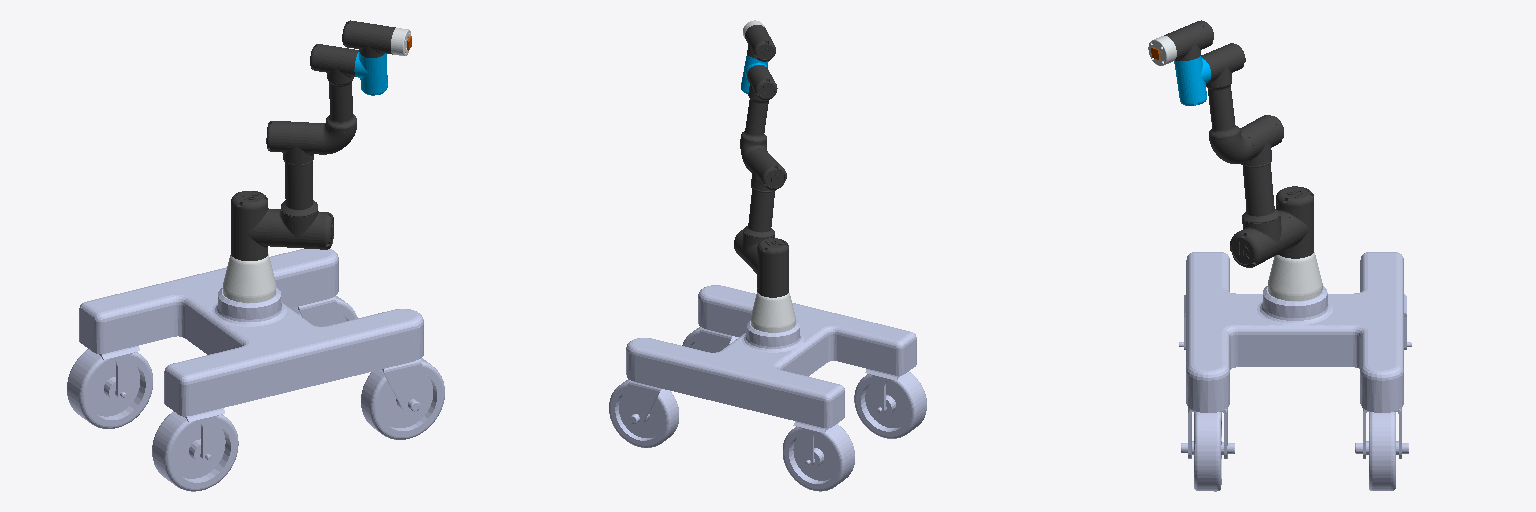
--- Render facts (derived) ---
The picture shows the robot from 3 angles, left to right: view 1: azimuth 30°, elevation 25°; view 2: azimuth 150°, elevation 25°; view 3: azimuth 270°, elevation 25°; orthographic projection.
Model mobile_manipulator with 22 links and 21 joints (8 revolute, 4 continuous, 9 fixed), rooted at dummy_link, posed all joints at 0.
Links seen in each view (by area): view 1: base_link, second_link, rear_right_wheel, rear_left_wheel, front_right_wheel, third_link, first_link, robot_base, fifth_link, front_right_castor, fourth_link, front_left_castor (+2 smaller); view 2: base_link, rear_right_wheel, rear_left_wheel, second_link, front_left_wheel, third_link, first_link, robot_base, front_left_castor, fifth_link, front_right_castor; view 3: base_link, second_link, third_link, front_right_wheel, robot_base, front_left_wheel, first_link, fourth_link, fifth_link, sixth_link.
Link boxes in pixels (x1=…): base_link: x1=79, y1=249, x2=423, y2=416; second_link: x1=266, y1=121, x2=333, y2=249; rear_right_wheel: x1=152, y1=411, x2=238, y2=491; rear_left_wheel: x1=67, y1=349, x2=152, y2=428; front_right_wheel: x1=361, y1=358, x2=444, y2=439; third_link: x1=310, y1=44, x2=358, y2=154; first_link: x1=231, y1=191, x2=274, y2=260; robot_base: x1=223, y1=254, x2=275, y2=302; fifth_link: x1=342, y1=20, x2=395, y2=57; front_right_castor: x1=382, y1=359, x2=421, y2=413; fourth_link: x1=354, y1=52, x2=387, y2=95; front_left_castor: x1=298, y1=297, x2=336, y2=326; base_link: x1=626, y1=285, x2=916, y2=427; rear_right_wheel: x1=854, y1=372, x2=926, y2=438; rear_left_wheel: x1=783, y1=424, x2=854, y2=491; second_link: x1=734, y1=148, x2=786, y2=267; front_left_wheel: x1=609, y1=379, x2=678, y2=447; third_link: x1=740, y1=65, x2=777, y2=167; first_link: x1=751, y1=238, x2=788, y2=297; robot_base: x1=751, y1=292, x2=795, y2=332; front_left_castor: x1=628, y1=380, x2=660, y2=425; fifth_link: x1=745, y1=25, x2=775, y2=61; front_right_castor: x1=700, y1=327, x2=731, y2=352; base_link: x1=1186, y1=252, x2=1403, y2=412; second_link: x1=1230, y1=115, x2=1294, y2=267; third_link: x1=1201, y1=43, x2=1251, y2=163; front_right_wheel: x1=1194, y1=412, x2=1221, y2=491; robot_base: x1=1268, y1=252, x2=1322, y2=300; front_left_wheel: x1=1369, y1=412, x2=1395, y2=490; first_link: x1=1276, y1=186, x2=1313, y2=258; fourth_link: x1=1174, y1=56, x2=1210, y2=105; fifth_link: x1=1164, y1=20, x2=1213, y2=60; sixth_link: x1=1148, y1=36, x2=1176, y2=65.
Bounding box of the posed robot: 0.7751 × 0.6146 × 1.13 m (x, y, z).
Meshes: 20 distinct files referenced, 20 mesh visuals loaded (20 binary STL).

The robot description file, URDF, robot "mobile_manipulator":
<?xml version="1.0" encoding="utf-8"?>
<!-- This URDF was automatically created by SolidWorks to URDF Exporter! Originally created by Stephen Brawner ([email redacted]) 
     Commit Version: 1.6.0-4-g7f85cfe  Build Version: 1.6.7995.38578
     For more information, please see http://wiki.ros.org/sw_urdf_exporter -->
<robot
  name="mobile_manipulator">
  <link
    name="base_link">
    <inertial>
      <origin
        xyz="-0.00319607622682661 0.180002969939367 0.297872363035518"
        rpy="0 0 0" />
      <mass
        value="50" />
      <inertia
        ixx="0.63891812039133"
        ixy="-1.25781907247513E-10"
        ixz="-0.000733527900815365"
        iyy="0.542408141562868"
        iyz="1.60391311307086E-11"
        izz="1.13742072534415" />
    </inertial>
    <visual>
      <origin
        xyz="0 0 0"
        rpy="0 0 0" />
      <geometry>
        <mesh
          filename="package://mobile_manipulator/meshes/base_link.STL" />
      </geometry>
      <material
        name="">
        <color
          rgba="0.792156862745098 0.819607843137255 0.933333333333333 1" />
      </material>
    </visual>
    <collision>
      <origin
        xyz="0 0 0"
        rpy="0 0 0" />
      <geometry>
        <mesh
          filename="package://mobile_manipulator/meshes/base_link.STL" />
      </geometry>
    </collision>
  </link>
  <link
    name="front_left_castor">
    <inertial>
      <origin
        xyz="0.00484984769708152 -1.11022302462516E-16 -0.0114069352482241"
        rpy="0 0 0" />
      <mass
        value="0.302449722252446" />
      <inertia
        ixx="0.000917502015816998"
        ixy="1.23731686324888E-19"
        ixz="9.60870987156195E-05"
        iyy="0.000789860838300225"
        iyz="-1.8267762154975E-19"
        izz="0.000455967835223646" />
    </inertial>
    <visual>
      <origin
        xyz="0 0 0"
        rpy="0 0 0" />
      <geometry>
        <mesh
          filename="package://mobile_manipulator/meshes/front_left_castor.STL" />
      </geometry>
      <material
        name="">
        <color
          rgba="0.792156862745098 0.819607843137255 0.933333333333333 1" />
      </material>
    </visual>
    <collision>
      <origin
        xyz="0 0 0"
        rpy="0 0 0" />
      <geometry>
        <mesh
          filename="package://mobile_manipulator/meshes/front_left_castor.STL" />
      </geometry>
    </collision>
  </link>
  <joint
    name="front_left_castor_joint"
    type="revolute">
    <origin
      xyz="0.272814741306656 0.383202969953993 0.23622"
      rpy="0 0 0" />
    <parent
      link="base_link" />
    <child
      link="front_left_castor" />
    <axis
      xyz="0 0 1" />
    <limit
      lower="-3.14"
      upper="3.14"
      effort="10"
      velocity="1000" />
    <dynamics friction="1"/>
  </joint>
  <link
    name="front_left_shaft">
    <inertial>
      <origin
        xyz="0 0 -0.0635"
        rpy="0 0 0" />
      <mass
        value="0.0858595098594949" />
      <inertia
        ixx="0.0001009908613904"
        ixy="2.99244959851748E-38"
        ixz="1.26927539495442E-38"
        iyy="0.0001009908613904"
        iyz="-3.2318755504395E-21"
        izz="9.64668125467686E-06" />
    </inertial>
    <visual>
      <origin
        xyz="0 0 0"
        rpy="0 0 0" />
      <geometry>
        <mesh
          filename="package://mobile_manipulator/meshes/front_left_shaft.STL" />
      </geometry>
      <material
        name="">
        <color
          rgba="0.792156862745098 0.819607843137255 0.933333333333333 1" />
      </material>
    </visual>
    <collision>
      <origin
        xyz="0 0 0"
        rpy="0 0 0" />
      <geometry>
        <mesh
          filename="package://mobile_manipulator/meshes/front_left_shaft.STL" />
      </geometry>
    </collision>
  </link>
  <joint
    name="front_left_shaft_joint"
    type="continuous">
    <origin
      xyz="0.0254000000000001 0.0635 -0.106172"
      rpy="-1.5707963267949 0 0" />
    <parent
      link="front_left_castor" />
    <child
      link="front_left_shaft" />
    <axis
      xyz="0 0 1" />
    <dynamics friction="1"/>
  </joint>
  <link
    name="front_left_wheel">
    <inertial>
      <origin
        xyz="-1.01451296707911E-05 -0.000756356582647499 -0.0635"
        rpy="0 0 0" />
      <mass
        value="1.36355537231825" />
      <inertia
        ixx="0.00450516535678402"
        ixy="3.72058102490162E-10"
        ixz="1.00066272375788E-19"
        iyy="0.0045051930900881"
        iyz="-5.57689498722482E-20"
        izz="0.00835610176466815" />
    </inertial>
    <visual>
      <origin
        xyz="0 0 0"
        rpy="0 0 0" />
      <geometry>
        <mesh
          filename="package://mobile_manipulator/meshes/front_left_wheel.STL" />
      </geometry>
      <material
        name="">
        <color
          rgba="0.792156862745098 0.819607843137255 0.933333333333333 1" />
      </material>
    </visual>
    <collision>
      <origin
        xyz="0 0 0"
        rpy="0 0 0" />
      <geometry>
        <mesh
          filename="package://mobile_manipulator/meshes/front_left_wheel.STL" />
      </geometry>
    </collision>
  </link>
  <joint
    name="front_left_wheel_joint"
    type="fixed">
    <origin
      xyz="0 0 0"
      rpy="0 0 0" />
    <parent
      link="front_left_shaft" />
    <child
      link="front_left_wheel" />
    <axis
      xyz="0 0 0" />
  </joint>
  <link
    name="front_right_castor">
    <inertial>
      <origin
        xyz="0.00484900708384495 -9.02938852160862E-05 -0.0114069352482241"
        rpy="0 0 0" />
      <mass
        value="0.302449722252446" />
      <inertia
        ixx="0.000917457772132958"
        ixy="-2.37599630155122E-06"
        ixz="9.6070444154058E-05"
        iyy="0.000789905081984266"
        iyz="-1.78893812838525E-06"
        izz="0.000455967835223646" />
    </inertial>
    <visual>
      <origin
        xyz="0 0 0"
        rpy="0 0 0" />
      <geometry>
        <mesh
          filename="package://mobile_manipulator/meshes/front_right_castor.STL" />
      </geometry>
      <material
        name="">
        <color
          rgba="0.792156862745098 0.819607843137255 0.933333333333333 1" />
      </material>
    </visual>
    <collision>
      <origin
        xyz="0 0 0"
        rpy="0 0 0" />
      <geometry>
        <mesh
          filename="package://mobile_manipulator/meshes/front_right_castor.STL" />
      </geometry>
    </collision>
  </link>
  <joint
    name="front_right_castor_joint"
    type="revolute">
    <origin
      xyz="0.272814741306656 -0.0231970300460073 0.23622"
      rpy="0 0 0" />
    <parent
      link="base_link" />
    <child
      link="front_right_castor" />
    <axis
      xyz="0 0 1" />
    <limit
      lower="-3.14"
      upper="3.14"
      effort="10"
      velocity="1000" />
    <dynamics friction="1"/>
  </joint>
  <link
    name="front_right_shaft">
    <inertial>
      <origin
        xyz="2.22044604925031E-16 0 0.0635000000000001"
        rpy="0 0 0" />
      <mass
        value="0.0858595098594949" />
      <inertia
        ixx="0.0001009908613904"
        ixy="2.7662421850965E-23"
        ixz="2.48815928255951E-21"
        iyy="0.0001009908613904"
        iyz="-3.94898122378412E-21"
        izz="9.64668125467686E-06" />
    </inertial>
    <visual>
      <origin
        xyz="0 0 0"
        rpy="0 0 0" />
      <geometry>
        <mesh
          filename="package://mobile_manipulator/meshes/front_right_shaft.STL" />
      </geometry>
      <material
        name="">
        <color
          rgba="0.792156862745098 0.819607843137255 0.933333333333333 1" />
      </material>
    </visual>
    <collision>
      <origin
        xyz="0 0 0"
        rpy="0 0 0" />
      <geometry>
        <mesh
          filename="package://mobile_manipulator/meshes/front_right_shaft.STL" />
      </geometry>
    </collision>
  </link>
  <joint
    name="front_right_shaft_joint"
    type="continuous">
    <origin
      xyz="0.0242133620585885 -0.0639618878537814 -0.106172"
      rpy="-1.5707963267949 0 -0.0186189563116303" />
    <parent
      link="front_right_castor" />
    <child
      link="front_right_shaft" />
    <axis
      xyz="0 0 -1" />
    <dynamics friction="1"/>
  </joint>
  <link
    name="front_right_wheel">
    <inertial>
      <origin
        xyz="-1.01451296707911E-05 -0.000756356582647499 0.0635000000000001"
        rpy="0 0 0" />
      <mass
        value="1.36355537231825" />
      <inertia
        ixx="0.00450516535678402"
        ixy="3.72058102619301E-10"
        ixz="2.84603070277445E-19"
        iyy="0.0045051930900881"
        iyz="-9.55478700473089E-20"
        izz="0.00835610176466815" />
    </inertial>
    <visual>
      <origin
        xyz="0 0 0"
        rpy="0 0 0" />
      <geometry>
        <mesh
          filename="package://mobile_manipulator/meshes/front_right_wheel.STL" />
      </geometry>
      <material
        name="">
        <color
          rgba="0.792156862745098 0.819607843137255 0.933333333333333 1" />
      </material>
    </visual>
    <collision>
      <origin
        xyz="0 0 0"
        rpy="0 0 0" />
      <geometry>
        <mesh
          filename="package://mobile_manipulator/meshes/front_right_wheel.STL" />
      </geometry>
    </collision>
  </link>
  <joint
    name="front_right_wheel_joint"
    type="fixed">
    <origin
      xyz="0 0 0"
      rpy="0 0 0" />
    <parent
      link="front_right_shaft" />
    <child
      link="front_right_wheel" />
    <axis
      xyz="0 0 0" />
  </joint>
  <link
    name="rear_left_castor">
    <inertial>
      <origin
        xyz="1.11022302462516E-16 -0.0970023352921987 -0.0685888094893936"
        rpy="0 0 0" />
      <mass
        value="0.165630168722885" />
      <inertia
        ixx="0.000170950243888681"
        ixy="5.0578443182247E-20"
        ixz="-3.29830690532305E-20"
        iyy="0.000132557141788529"
        iyz="1.14366499340477E-08"
        izz="0.000193530591087973" />
    </inertial>
    <visual>
      <origin
        xyz="0 0 0"
        rpy="0 0 0" />
      <geometry>
        <mesh
          filename="package://mobile_manipulator/meshes/rear_left_castor.STL" />
      </geometry>
      <material
        name="">
        <color
          rgba="0.792156862745098 0.819607843137255 0.933333333333333 1" />
      </material>
    </visual>
    <collision>
      <origin
        xyz="0 0 0"
        rpy="0 0 0" />
      <geometry>
        <mesh
          filename="package://mobile_manipulator/meshes/rear_left_castor.STL" />
      </geometry>
    </collision>
  </link>
  <joint
    name="rear_left_castor_joint"
    type="fixed">
    <origin
      xyz="-0.273285258693344 0.451782969953993 0.130175"
      rpy="-1.5707963267949 0 0" />
    <parent
      link="base_link" />
    <child
      link="rear_left_castor" />
    <axis
      xyz="0 0 0" />
  </joint>
  <link
    name="rear_left_shaft">
    <inertial>
      <origin
        xyz="1.11022302462516E-16 -1.11022302462516E-16 -0.0685799999999999"
        rpy="0 0 0" />
      <mass
        value="0.0679514721041126" />
      <inertia
        ixx="5.51726293118822E-05"
        ixy="2.58732738125917E-22"
        ixz="-6.57806775316306E-21"
        iyy="5.51726293118822E-05"
        iyz="-9.63988248762429E-21"
        izz="7.75429241942671E-06" />
    </inertial>
    <visual>
      <origin
        xyz="0 0 0"
        rpy="0 0 0" />
      <geometry>
        <mesh
          filename="package://mobile_manipulator/meshes/rear_left_shaft.STL" />
      </geometry>
      <material
        name="">
        <color
          rgba="0.792156862745098 0.819607843137255 0.933333333333333 1" />
      </material>
    </visual>
    <collision>
      <origin
        xyz="0 0 0"
        rpy="0 0 0" />
      <geometry>
        <mesh
          filename="package://mobile_manipulator/meshes/rear_left_shaft.STL" />
      </geometry>
    </collision>
  </link>
  <joint
    name="rear_left_shaft_joint"
    type="continuous">
    <origin
      xyz="0 0 0"
      rpy="0 0 0" />
    <parent
      link="rear_left_castor" />
    <child
      link="rear_left_shaft" />
    <axis
      xyz="0 0 -1" />
  </joint>
  <link
    name="rear_left_wheel">
    <inertial>
      <origin
        xyz="-9.36913719649102E-05 -0.000751935501142942 -0.0685799999999999"
        rpy="0 0 0" />
      <mass
        value="1.55942631528513" />
      <inertia
        ixx="0.00546334290510486"
        ixy="4.09192546748377E-09"
        ixz="2.12439983690879E-19"
        iyy="0.00546337523567005"
        iyz="1.67458855212982E-19"
        izz="0.00981623598058744" />
    </inertial>
    <visual>
      <origin
        xyz="0 0 0"
        rpy="0 0 0" />
      <geometry>
        <mesh
          filename="package://mobile_manipulator/meshes/rear_left_wheel.STL" />
      </geometry>
      <material
        name="">
        <color
          rgba="0.792156862745098 0.819607843137255 0.933333333333333 1" />
      </material>
    </visual>
    <collision>
      <origin
        xyz="0 0 0"
        rpy="0 0 0" />
      <geometry>
        <mesh
          filename="package://mobile_manipulator/meshes/rear_left_wheel.STL" />
      </geometry>
    </collision>
  </link>
  <joint
    name="rear_left_wheel_joint"
    type="fixed">
    <origin
      xyz="0 0 0"
      rpy="0 0 0" />
    <parent
      link="rear_left_shaft" />
    <child
      link="rear_left_wheel" />
    <axis
      xyz="0 0 0" />
  </joint>
  <link
    name="rear_right_castor">
    <inertial>
      <origin
        xyz="0 -0.0970023352921985 0.0685711905106061"
        rpy="0 0 0" />
      <mass
        value="0.165630168722885" />
      <inertia
        ixx="0.000170950243888681"
        ixy="4.43696443974892E-22"
        ixz="6.08573031775317E-20"
        iyy="0.000132557141788528"
        iyz="1.14366499340132E-08"
        izz="0.000193530591087973" />
    </inertial>
    <visual>
      <origin
        xyz="0 0 0"
        rpy="0 0 0" />
      <geometry>
        <mesh
          filename="package://mobile_manipulator/meshes/rear_right_castor.STL" />
      </geometry>
      <material
        name="">
        <color
          rgba="0.792156862745098 0.819607843137255 0.933333333333333 1" />
      </material>
    </visual>
    <collision>
      <origin
        xyz="0 0 0"
        rpy="0 0 0" />
      <geometry>
        <mesh
          filename="package://mobile_manipulator/meshes/rear_right_castor.STL" />
      </geometry>
    </collision>
  </link>
  <joint
    name="rear_right_castor_joint"
    type="fixed">
    <origin
      xyz="-0.273285258693344 -0.0917770300460072 0.130175"
      rpy="-1.5707963267949 0 0" />
    <parent
      link="base_link" />
    <child
      link="rear_right_castor" />
    <axis
      xyz="0 0 0" />
  </joint>
  <link
    name="rear_right_shaft">
    <inertial>
      <origin
        xyz="1.11022302462516E-16 -1.11022302462516E-16 0.06858"
        rpy="0 0 0" />
      <mass
        value="0.0679514721041126" />
      <inertia
        ixx="5.51726293118822E-05"
        ixy="2.78367937916384E-22"
        ixz="1.85423853317149E-20"
        iyy="5.51726293118822E-05"
        iyz="8.33371468055621E-22"
        izz="7.75429241942671E-06" />
    </inertial>
    <visual>
      <origin
        xyz="0 0 0"
        rpy="0 0 0" />
      <geometry>
        <mesh
          filename="package://mobile_manipulator/meshes/rear_right_shaft.STL" />
      </geometry>
      <material
        name="">
        <color
          rgba="0.792156862745098 0.819607843137255 0.933333333333333 1" />
      </material>
    </visual>
    <collision>
      <origin
        xyz="0 0 0"
        rpy="0 0 0" />
      <geometry>
        <mesh
          filename="package://mobile_manipulator/meshes/rear_right_shaft.STL" />
      </geometry>
    </collision>
  </link>
  <joint
    name="rear_right_shaft_joint"
    type="continuous">
    <origin
      xyz="0 0 0"
      rpy="0 0 0" />
    <parent
      link="rear_right_castor" />
    <child
      link="rear_right_shaft" />
    <axis
      xyz="0 0 -1" />
  </joint>
  <link
    name="rear_right_wheel">
    <inertial>
      <origin
        xyz="-9.36913719649102E-05 -0.000751935501143053 0.06858"
        rpy="0 0 0" />
      <mass
        value="1.55942631528513" />
      <inertia
        ixx="0.00546334290510487"
        ixy="4.09192546791388E-09"
        ixz="-1.0020511966622E-18"
        iyy="0.00546337523567005"
        iyz="-8.19160629255159E-20"
        izz="0.00981623598058745" />
    </inertial>
    <visual>
      <origin
        xyz="0 0 0"
        rpy="0 0 0" />
      <geometry>
        <mesh
          filename="package://mobile_manipulator/meshes/rear_right_wheel.STL" />
      </geometry>
      <material
        name="">
        <color
          rgba="0.792156862745098 0.819607843137255 0.933333333333333 1" />
      </material>
    </visual>
    <collision>
      <origin
        xyz="0 0 0"
        rpy="0 0 0" />
      <geometry>
        <mesh
          filename="package://mobile_manipulator/meshes/rear_right_wheel.STL" />
      </geometry>
    </collision>
  </link>
  <joint
    name="rear_right_wheel_joint"
    type="fixed">
    <origin
      xyz="0 0 0"
      rpy="0 0 0" />
    <parent
      link="rear_right_shaft" />
    <child
      link="rear_right_wheel" />
    <axis
      xyz="0 0 0" />
  </joint>
  <link
    name="robot_base">
    <inertial>
      <origin
        xyz="0 0 0.0407930949134881"
        rpy="0 0 0" />
      <mass
        value="40" />
      <inertia
        ixx="0.00437179269564762"
        ixy="-2.92879474816591E-35"
        ixz="2.70738233273109E-19"
        iyy="0.00437179269564762"
        iyz="-2.3926015820178E-35"
        izz="0.00438480872973141" />
    </inertial>
    <visual>
      <origin
        xyz="0 0 0"
        rpy="0 0 0" />
      <geometry>
        <mesh
          filename="package://mobile_manipulator/meshes/robot_base.STL" />
      </geometry>
      <material
        name="">
        <color
          rgba="0.898039215686275 0.917647058823529 0.929411764705882 1" />
      </material>
    </visual>
    <collision>
      <origin
        xyz="0 0 0"
        rpy="0 0 0" />
      <geometry>
        <mesh
          filename="package://mobile_manipulator/meshes/robot_base.STL" />
      </geometry>
    </collision>
  </link>
  <joint
    name="robot_base"
    type="fixed">
    <origin
      xyz="-0.00658525869334392 0.180002969953993 0.403023154484642"
      rpy="0 0 0" />
    <parent
      link="base_link" />
    <child
      link="robot_base" />
    <axis
      xyz="0 0 0" />
  </joint>
  <link
    name="first_link">
    <inertial>
      <origin
        xyz="-0.00337964257052081 -0.00431800680524996 0.0632831520953769"
        rpy="0 0 0" />
      <mass
        value="0.812933003492262" />
      <inertia
        ixx="0.001391222873496"
        ixy="-4.59311731070834E-05"
        ixz="1.06122999584423E-05"
        iyy="0.00136844706560266"
        iyz="1.35570695734901E-05"
        izz="0.000972593788340976" />
    </inertial>
    <visual>
      <origin
        xyz="0 0 0"
        rpy="0 0 0" />
      <geometry>
        <mesh
          filename="package://mobile_manipulator/meshes/first_link.STL" />
      </geometry>
      <material
        name="">
        <color
          rgba="0.298039215686275 0.298039215686275 0.298039215686275 1" />
      </material>
    </visual>
    <collision>
      <origin
        xyz="0 0 0"
        rpy="0 0 0" />
      <geometry>
        <mesh
          filename="package://mobile_manipulator/meshes/first_link.STL" />
      </geometry>
    </collision>
  </link>
  <joint
    name="first_joint"
    type="revolute">
    <origin
      xyz="0 0 0.0990168455153581"
      rpy="0 0 1.5707963267949" />
    <parent
      link="robot_base" />
    <child
      link="first_link" />
    <axis
      xyz="0 0 1" />
    <limit
      lower="-6.28"
      upper="6.28"
      effort="330"
      velocity="3.14" />
    <dynamics friction="1"/>
  </joint>
  <link
    name="second_link">
    <inertial>
      <origin
        xyz="-0.0117249652598521 0.113380216554954 0.0655525773294785"
        rpy="0 0 0" />
      <mass
        value="0.028123573064552" />
      <inertia
        ixx="0.00569102915065171"
        ixy="0.000296337947717881"
        ixz="7.98900400083256E-08"
        iyy="0.00285620540335722"
        iyz="-2.18147428304694E-05"
        izz="0.00505042046755672" />
    </inertial>
    <visual>
      <origin
        xyz="0 0 0"
        rpy="0 0 0" />
      <geometry>
        <mesh
          filename="package://mobile_manipulator/meshes/second_link.STL" />
      </geometry>
      <material
        name="">
        <color
          rgba="0.298039215686275 0.298039215686275 0.298039215686275 1" />
      </material>
    </visual>
    <collision>
      <origin
        xyz="0 0 0"
        rpy="0 0 0" />
      <geometry>
        <mesh
          filename="package://mobile_manipulator/meshes/second_link.STL" />
      </geometry>
    </collision>
  </link>
  <joint
    name="second_joint"
    type="revolute">
    <origin
      xyz="-0.0338961788338055 -0.0433133820021778 0.0660000000000001"
      rpy="1.57079632679489 0 -0.664028256978918" />
    <parent
      link="first_link" />
    <child
      link="second_link" />
    <axis
      xyz="0 0 1" />
    <limit
      lower="-6.28"
      upper="6.28"
      effort="330"
      velocity="3.14" />
    <dynamics friction="1"/>
  </joint>
  <link
    name="third_link">
    <inertial>
      <origin
        xyz="-0.0158670003927452 -0.114698553849222 -0.0469580005536696"
        rpy="0 0 0" />
      <mass
        value="0.0124575825968914" />
      <inertia
        ixx="0.00229066474066303"
        ixy="-0.000192015997537938"
        ixz="-2.29268122539127E-05"
        iyy="0.000934394645560603"
        iyz="-5.3747370178705E-05"
        izz="0.00220295841491764" />
    </inertial>
    <visual>
      <origin
        xyz="0 0 0"
        rpy="0 0 0" />
      <geometry>
        <mesh
          filename="package://mobile_manipulator/meshes/third_link.STL" />
      </geometry>
      <material
        name="">
        <color
          rgba="0.298039215686275 0.298039215686275 0.298039215686275 1" />
      </material>
    </visual>
    <collision>
      <origin
        xyz="0 0 0"
        rpy="0 0 0" />
      <geometry>
        <mesh
          filename="package://mobile_manipulator/meshes/third_link.STL" />
      </geometry>
    </collision>
  </link>
  <joint
    name="third_joint"
    type="revolute">
    <origin
      xyz="-0.0256742174831943 0.253704852320886 0.120997113246635"
      rpy="3.14054681623012 0.0101921553184578 0.000807749939694129" />
    <parent
      link="second_link" />
    <child
      link="third_link" />
    <axis
      xyz="0 0 1" />
    <limit
      lower="-3.14"
      upper="3.14"
      effort="150"
      velocity="3.14" />
    <dynamics friction="1"/>
  </joint>
  <link
    name="fourth_link">
    <inertial>
      <origin
        xyz="-0.000398640384341453 -0.00217665684767709 -0.124547927569575"
        rpy="0 0 0" />
      <mass
        value="0.00306273862762611" />
      <inertia
        ixx="0.000279111594581257"
        ixy="-1.56179838492059E-05"
        ixz="-2.2790888304727E-07"
        iyy="0.000196741690864785"
        iyz="-1.26751358860716E-06"
        izz="0.000259985330566328" />
    </inertial>
    <visual>
      <origin
        xyz="0 0 0"
        rpy="0 0 0" />
      <geometry>
        <mesh
          filename="package://mobile_manipulator/meshes/fourth_link.STL" />
      </geometry>
      <material
        name="">
        <color
          rgba="0 0.725490196078431 1 1" />
      </material>
    </visual>
    <collision>
      <origin
        xyz="0 0 0"
        rpy="0 0 0" />
      <geometry>
        <mesh
          filename="package://mobile_manipulator/meshes/fourth_link.STL" />
      </geometry>
    </collision>
  </link>
  <joint
    name="fourth_joint"
    type="revolute">
    <origin
      xyz="-0.0230427335823264 -0.223455583154106 -0.00570683138097849"
      rpy="-0.0244849750751399 -0.175795305652136 -3.14059771186311" />
    <parent
      link="third_link" />
    <child
      link="fourth_link" />
    <axis
      xyz="0 0 1" />
    <limit
      lower="-6.28"
      upper="6.28"
      effort="54"
      velocity="6.28" />
    <dynamics friction="1"/>
  </joint>
  <link
    name="fifth_link">
    <inertial>
      <origin
        xyz="-0.00222330534087445 -0.000290458065341781 -0.124894575549453"
        rpy="0 0 0" />
      <mass
        value="0.00306273745143419" />
      <inertia
        ixx="0.000212340633482773"
        ixy="-1.8489480303962E-05"
        ixz="-4.02533595749976E-06"
        iyy="0.00035155920598561"
        iyz="-5.21211992416272E-07"
        izz="0.000331534918624687" />
    </inertial>
    <visual>
      <origin
        xyz="0 0 0"
        rpy="0 0 0" />
      <geometry>
        <mesh
          filename="package://mobile_manipulator/meshes/fifth_link.STL" />
      </geometry>
      <material
        name="">
        <color
          rgba="0.298039215686275 0.298039215686275 0.298039215686275 1" />
      </material>
    </visual>
    <collision>
      <origin
        xyz="0 0 0"
        rpy="0 0 0" />
      <geometry>
        <mesh
          filename="package://mobile_manipulator/meshes/fifth_link.STL" />
      </geometry>
    </collision>
  </link>
  <joint
    name="fifth_joint"
    type="revolute">
    <origin
      xyz="-0.0081111 -0.044263 -0.1285"
      rpy="1.5708 -1.4416 -0.18124" />
    <parent
      link="fourth_link" />
    <child
      link="fifth_link" />
    <axis
      xyz="0 0 1" />
    <limit
      lower="-6.28"
      upper="6.28"
      effort="54"
      velocity="6.28" />
    <dynamics friction="1"/>
  </joint>
  <link
    name="sixth_link">
    <inertial>
      <origin
        xyz="-2.22044604925031E-16 0 -0.0273077824736045"
        rpy="0 0 0" />
      <mass
        value="0.00637771345203637" />
      <inertia
        ixx="0.000108562803458864"
        ixy="-2.93285157986801E-20"
        ixz="1.35525271560688E-20"
        iyy="0.000108562803458864"
        iyz="-7.72917564369549E-21"
        izz="0.000159063531915951" />
    </inertial>
    <visual>
      <origin
        xyz="0 0 0"
        rpy="0 0 0" />
      <geometry>
        <mesh
          filename="package://mobile_manipulator/meshes/sixth_link.STL" />
      </geometry>
      <material
        name="">
        <color
          rgba="0.894117647058823 0.913725490196078 0.929411764705882 1" />
      </material>
    </visual>
    <collision>
      <origin
        xyz="0 0 0"
        rpy="0 0 0" />
      <geometry>
        <mesh
          filename="package://mobile_manipulator/meshes/sixth_link.STL" />
      </geometry>
    </collision>
  </link>
  <joint
    name="sixth_joint"
    type="revolute">
    <origin
      xyz="-0.042638 -0.0055664 -0.1285"
      rpy="-1.5708 0.18122 -1.441" />
    <parent
      link="fifth_link" />
    <child
      link="sixth_link" />
    <axis
      xyz="0 0 1" />
    <limit
      lower="-6.28"
      upper="6.28"
      effort="54"
      velocity="6.28" />
    <dynamics friction="1"/>
  </joint>

  <link name="dummy_link" >
    <origin
      xyz="0 0 0"
      rpy="0 0 0" />
  </link>
  <joint name="dummy_joint" type="fixed">
    <parent link="dummy_link"/>
    <child link="base_link"/>
    <origin xyz="0 0 0" rpy="0 0 0" />
    <axis xyz="0 0 0" /> 
  </joint>

  <!--camera-->
  <link name='camera'>
     <visual name ='camera_visual'>
	<geometry>
	   <box size="0.005 0.025 0.025"/>
	</geometry>
     </visual>

    <inertial>
      	  <mass value="0.0001"/>
          <origin xyz="0 0 0" rpy=" 0 0 0"/>
	  <box_inertia m="0.1" x="0.005" y="0.025" z="0.025" />
          <inertia
            ixx="1e-6" ixy="0" ixz="0"
            iyy="1e-6" iyz="0"
            izz="1e-6"
          />
     </inertial>

     <collision name='collision'>
           <origin xyz="0 0 0" rpy=" 0 0 0"/> 
           <geometry>
             <box size="0.005 0.025 0.025"/>
           </geometry>
     </collision>
  </link>

<gazebo reference="camera">
    <material>Gazebo/Black</material>
</gazebo>

  <joint type="fixed" name="camera_joint">
    <origin xyz="0 0 -0.05" rpy="0 1.57 -0.1"/>
    <child link="camera"/>
    <parent link="sixth_link"/>
    <axis xyz="0 0 0" rpy="0 0 0"/>
    <limit effort="10000" velocity="1000"/>
    <dynamics damping="1.0" friction="1.0"/>
  </joint>

  <gazebo reference="camera">
    <sensor type="camera" name="camera1">
      <update_rate>30.0</update_rate>
      <camera name="head">
        <horizontal_fov>1.3962634</horizontal_fov>
        <image>
          <width>800</width>
          <height>800</height>
          <format>R8G8B8</format>
        </image>
        <clip>
          <near>0.02</near>
          <far>300</far>
        </clip>
      </camera>
      <plugin name="camera_controller" filename="libgazebo_ros_camera.so">
        <alwaysOn>true</alwaysOn>
        <updateRate>0.0</updateRate>
        <cameraName>camera</cameraName>
        <imageTopicName>rgb/image_raw</imageTopicName>
        <cameraInfoTopicName>rgb/camera_info</cameraInfoTopicName>
        <frameName>camera</frameName>
        <hackBaseline>0.07</hackBaseline>
        <distortionK1>0.0</distortionK1>
        <distortionK2>0.0</distortionK2>
        <distortionK3>0.0</distortionK3>
        <distortionT1>0.0</distortionT1>
        <distortionT2>0.0</distortionT2>
      </plugin>
    </sensor>
  </gazebo>

  <transmission name="rear_motor_left">
  <type>transmission_interface/SimpleTransmission</type>
  <joint name="rear_left_shaft_joint">
    <hardwareInterface>hardware_interface/VelocityJointInterface</hardwareInterface>
  </joint>
  <actuator name="rear_motor_left">
    <mechanicalReduction>1</mechanicalReduction>
    <hardwareInterface>hardware_interface/VelocityJointInterface</hardwareInterface>
  </actuator>
  </transmission>

  <transmission name="rear_motor_right">
  <type>transmission_interface/SimpleTransmission</type>
  <joint name="rear_right_shaft_joint">
    <hardwareInterface>hardware_interface/VelocityJointInterface</hardwareInterface>
  </joint>
  <actuator name="rear_motor_right">
    <mechanicalReduction>1</mechanicalReduction>
    <hardwareInterface>hardware_interface/VelocityJointInterface</hardwareInterface>
  </actuator>
  </transmission>

  <transmission name="left_castor_motor">
  <type>transmission_interface/SimpleTransmission</type>
  <joint name="front_left_castor_joint">
    <hardwareInterface>hardware_interface/EffortJointInterface</hardwareInterface>
  </joint>
  <actuator name="left_castor_motor">
    <mechanicalReduction>50</mechanicalReduction>
    <hardwareInterface>hardware_interface/EffortJointInterface</hardwareInterface>
  </actuator>
  </transmission>

  <transmission name="right_castor_motor">
  <type>transmission_interface/SimpleTransmission</type>
  <joint name="front_right_castor_joint">
    <hardwareInterface>hardware_interface/EffortJointInterface</hardwareInterface>
  </joint>
  <actuator name="right_castor_motor">
    <mechanicalReduction>50</mechanicalReduction>
    <hardwareInterface>hardware_interface/EffortJointInterface</hardwareInterface>
  </actuator>
  </transmission>

  <transmission name="first_link_motor">
  <type>transmission_interface/SimpleTransmission</type>
  <joint name="first_joint">
    <hardwareInterface>hardware_interface/PositionJointInterface</hardwareInterface>
  </joint>
  <actuator name="first_link_motor">
    <mechanicalReduction>50</mechanicalReduction>
    <hardwareInterface>hardware_interface/PositionJointInterface</hardwareInterface>
  </actuator>
  </transmission>

  <transmission name="second_link_motor">
  <type>transmission_interface/SimpleTransmission</type>
  <joint name="second_joint">
    <hardwareInterface>hardware_interface/PositionJointInterface</hardwareInterface>
  </joint>
  <actuator name="second_link_motor">
    <mechanicalReduction>50</mechanicalReduction>
    <hardwareInterface>hardware_interface/PositionJointInterface</hardwareInterface>
  </actuator>
  </transmission>

  <transmission name="third_link_motor">
  <type>transmission_interface/SimpleTransmission</type>
  <joint name="third_joint">
    <hardwareInterface>hardware_interface/PositionJointInterface</hardwareInterface>
  </joint>
  <actuator name="third_link_motor">
    <mechanicalReduction>50</mechanicalReduction>
    <hardwareInterface>hardware_interface/PositionJointInterface</hardwareInterface>
  </actuator>
  </transmission>

  <transmission name="fourth_link_motor">
  <type>transmission_interface/SimpleTransmission</type>
  <joint name="fourth_joint">
    <hardwareInterface>hardware_interface/PositionJointInterface</hardwareInterface>
  </joint>
  <actuator name="fourth_link_motor">
    <mechanicalReduction>50</mechanicalReduction>
    <hardwareInterface>hardware_interface/PositionJointInterface</hardwareInterface>
  </actuator>
  </transmission>

  <transmission name="fifth_link_motor">
  <type>transmission_interface/SimpleTransmission</type>
  <joint name="fifth_joint">
    <hardwareInterface>hardware_interface/PositionJointInterface</hardwareInterface>
  </joint>
  <actuator name="fifth_link_motor">
    <mechanicalReduction>50</mechanicalReduction>
    <hardwareInterface>hardware_interface/PositionJointInterface</hardwareInterface>
  </actuator>
  </transmission>

  <transmission name="sixth_link_motor">
  <type>transmission_interface/SimpleTransmission</type>
  <joint name="sixth_joint">
    <hardwareInterface>hardware_interface/PositionJointInterface</hardwareInterface>
  </joint>
  <actuator name="sixth_link_motor">
    <mechanicalReduction>50</mechanicalReduction>
    <hardwareInterface>hardware_interface/PositionJointInterface</hardwareInterface>
  </actuator>
  </transmission>

<!--  Gazebo plugin for control -->
	<gazebo>
		<plugin name="gazebo_ros_control" filename="libgazebo_ros_control.so">
			<robotNamespace>/mobile_manipulator</robotNamespace>
			<robotSimType>gazebo_ros_control/DefaultRobotHWSim</robotSimType>
			<legacyModeNS>true</legacyModeNS>
		</plugin>
	</gazebo>

</robot>
